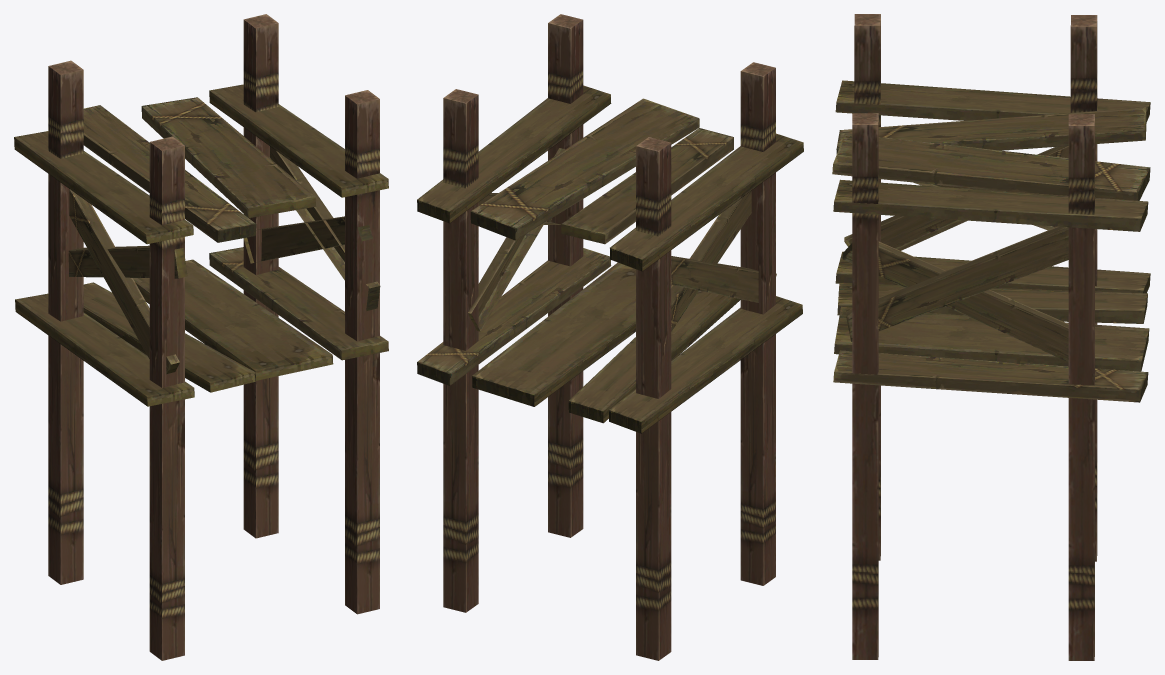
File: bfcs_mujia_01.FBX
The picture shows the model from 3 angles, left to right: view 1: azimuth 30°, elevation 25°; view 2: azimuth 150°, elevation 25°; view 3: azimuth 270°, elevation 25°; orthographic projection. The views are drawn at different scales.
Parts seen in each view (by area): view 1: bfcs_mujia_01; view 2: bfcs_mujia_01; view 3: bfcs_mujia_01.
Part boxes in pixels (x1,y1,x2,y2): bfcs_mujia_01: (14, 14, 388, 660); bfcs_mujia_01: (417, 14, 803, 660); bfcs_mujia_01: (832, 14, 1150, 660).
Size of the model in its own units: 80.31 by 160 by 86.17.
